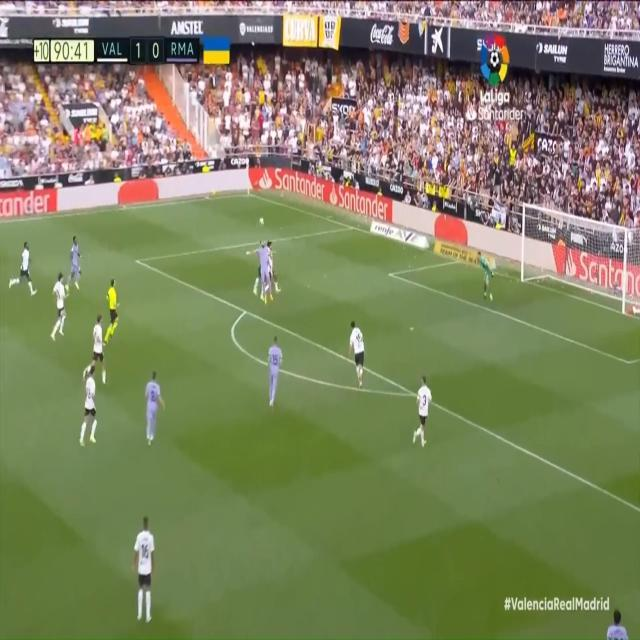ball: (258, 214, 266, 227)
goalkeeper: (476, 248, 495, 303)
player: (132, 515, 158, 628), (77, 362, 99, 451), (142, 365, 165, 446), (411, 371, 432, 455), (8, 236, 36, 296), (85, 311, 105, 382), (266, 332, 282, 409), (51, 270, 69, 338), (349, 319, 365, 393), (69, 233, 86, 296), (606, 603, 631, 640), (267, 241, 280, 302), (260, 240, 270, 303)
referee: (104, 273, 122, 347)
